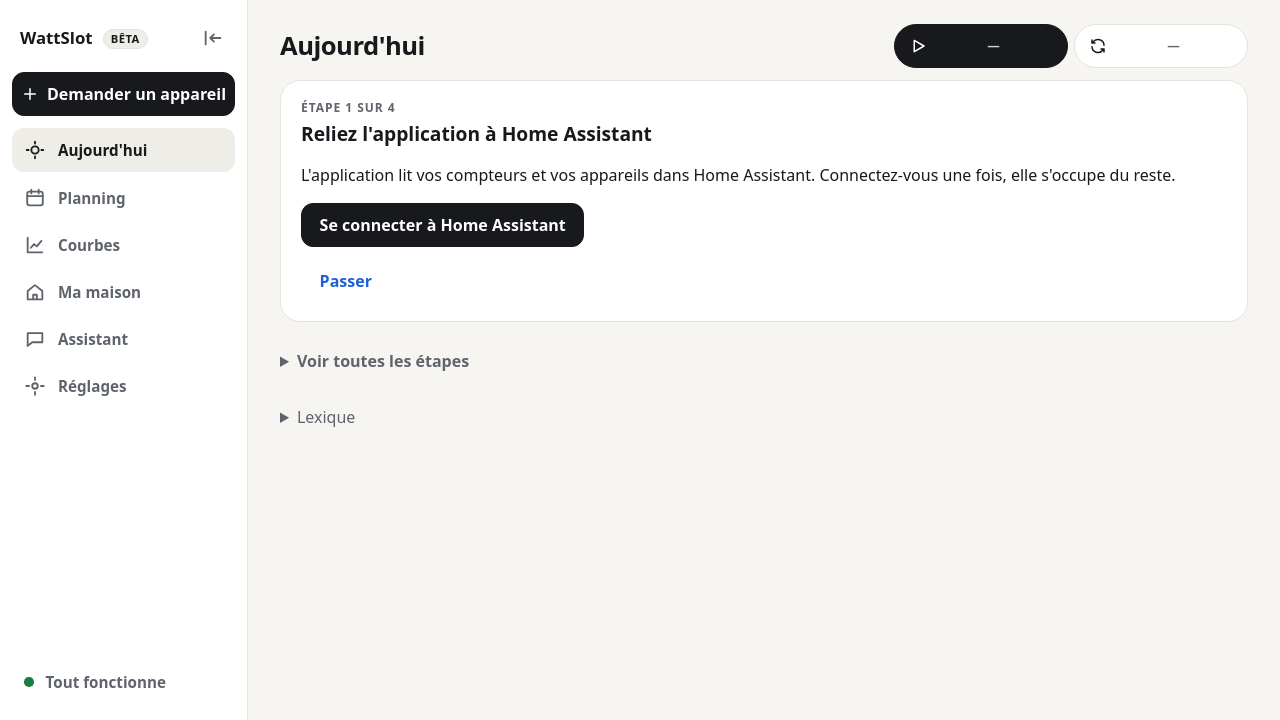
Test: barre de l'application › dépose une demande depuis la feuille et confirme
Click the button "Demander un appareil" at coordinates (124, 94), box [12,72,235,116]
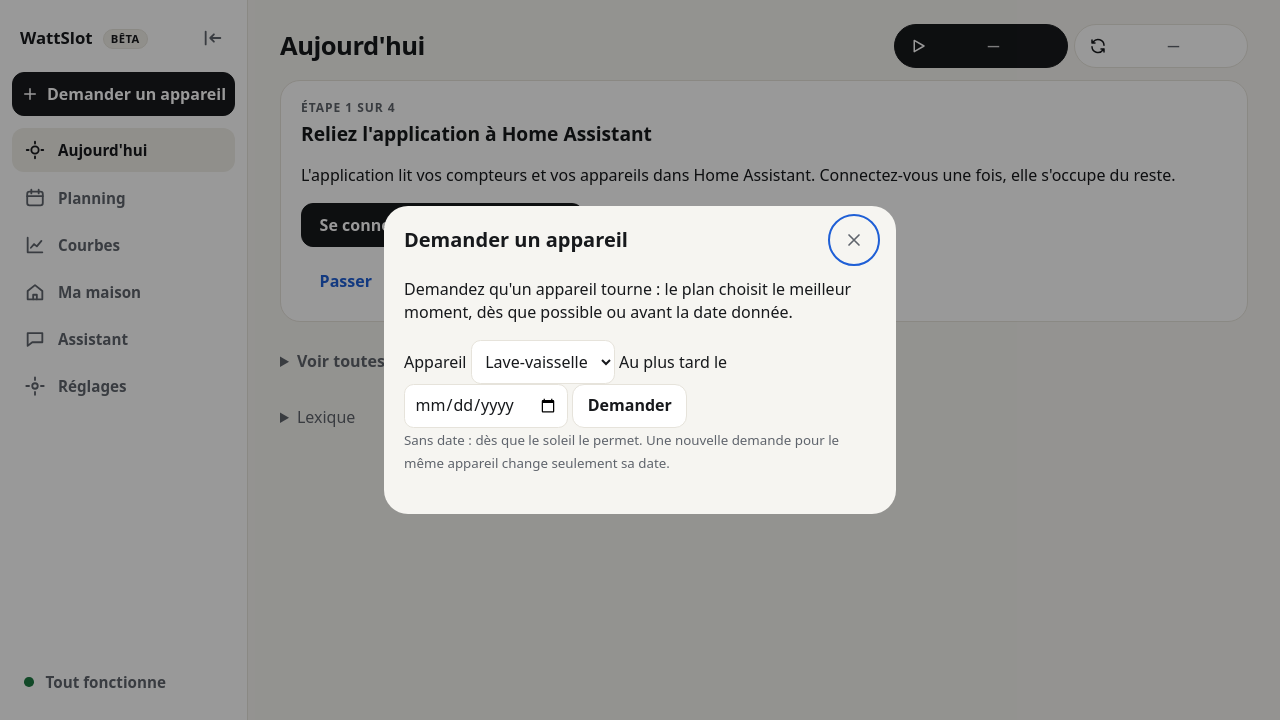
Click the button "Demander" at coordinates (630, 406), box [572,384,687,428]
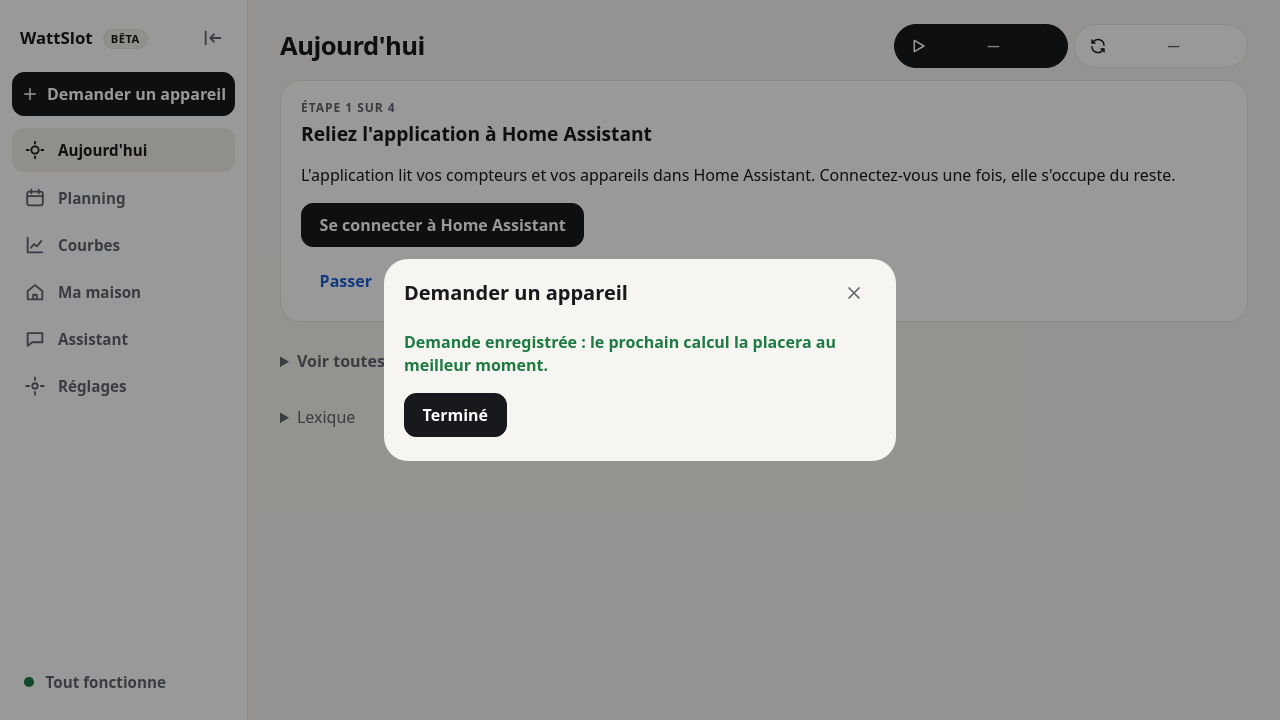
Expected: the message shows "Demande enregistrée", [404,331,836,376]
Click the button "Terminé" at coordinates (455, 415), box [404,393,507,437]
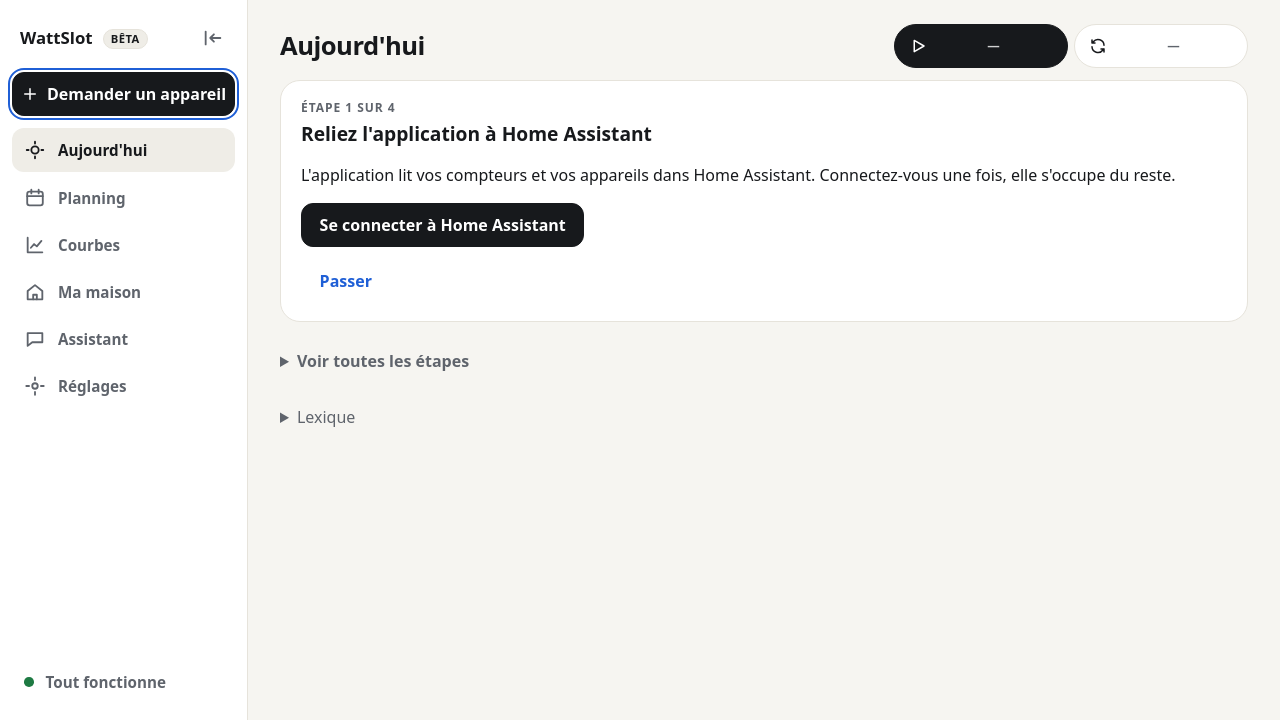
Expected: the dialog is gone
